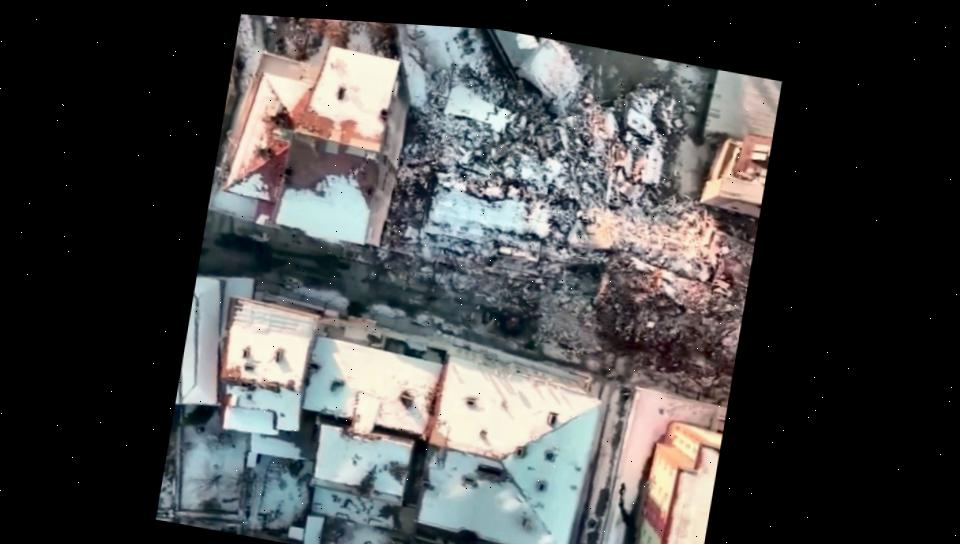kapali: (412, 262, 738, 407)
